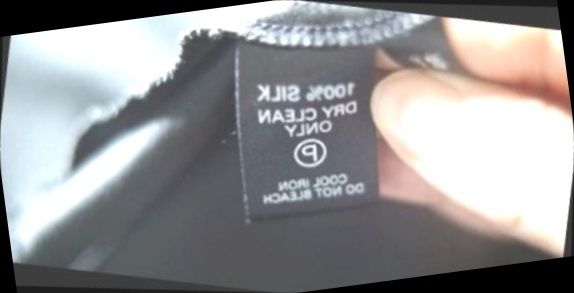dry_clean_any_solvent_except_trichloroethylene: (283, 127, 335, 177)
